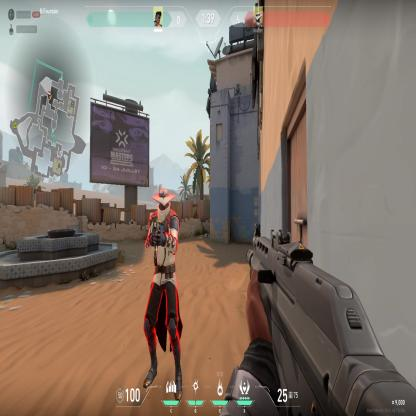enemy: (142, 187, 186, 403)
